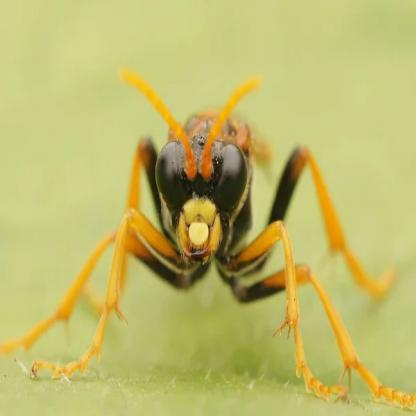sawfly: (0, 63, 416, 412)
